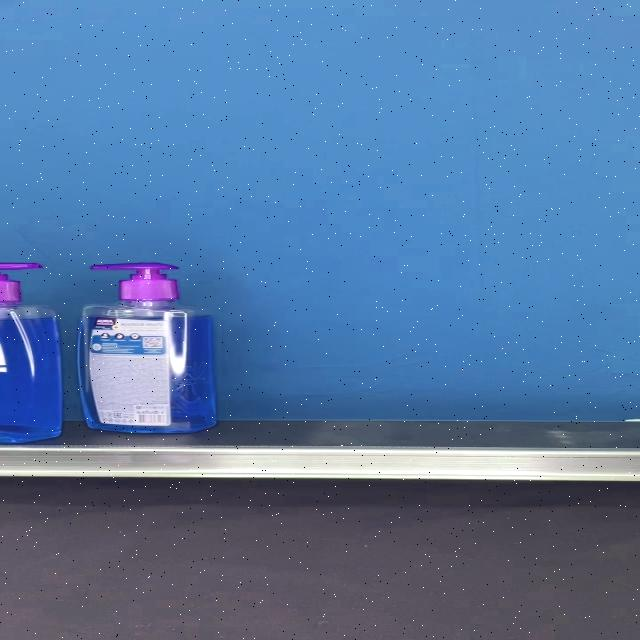Bottle: (77, 263, 217, 433)
Cap: (89, 263, 179, 303)
